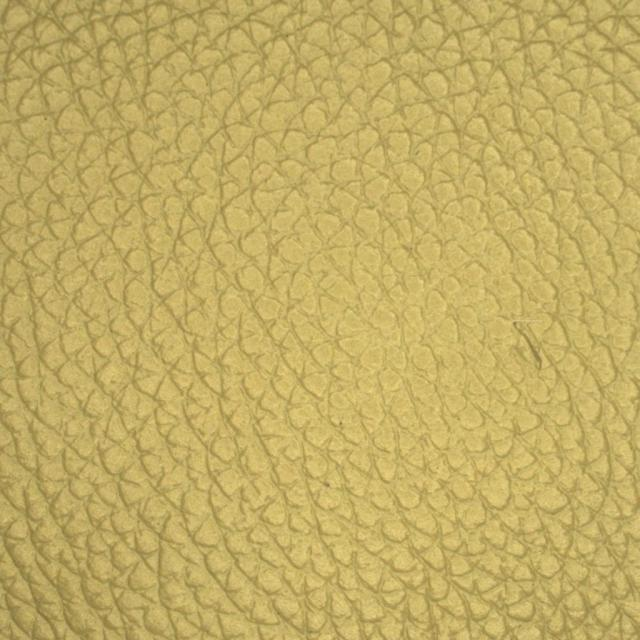Scratch: (402, 267, 598, 421)
